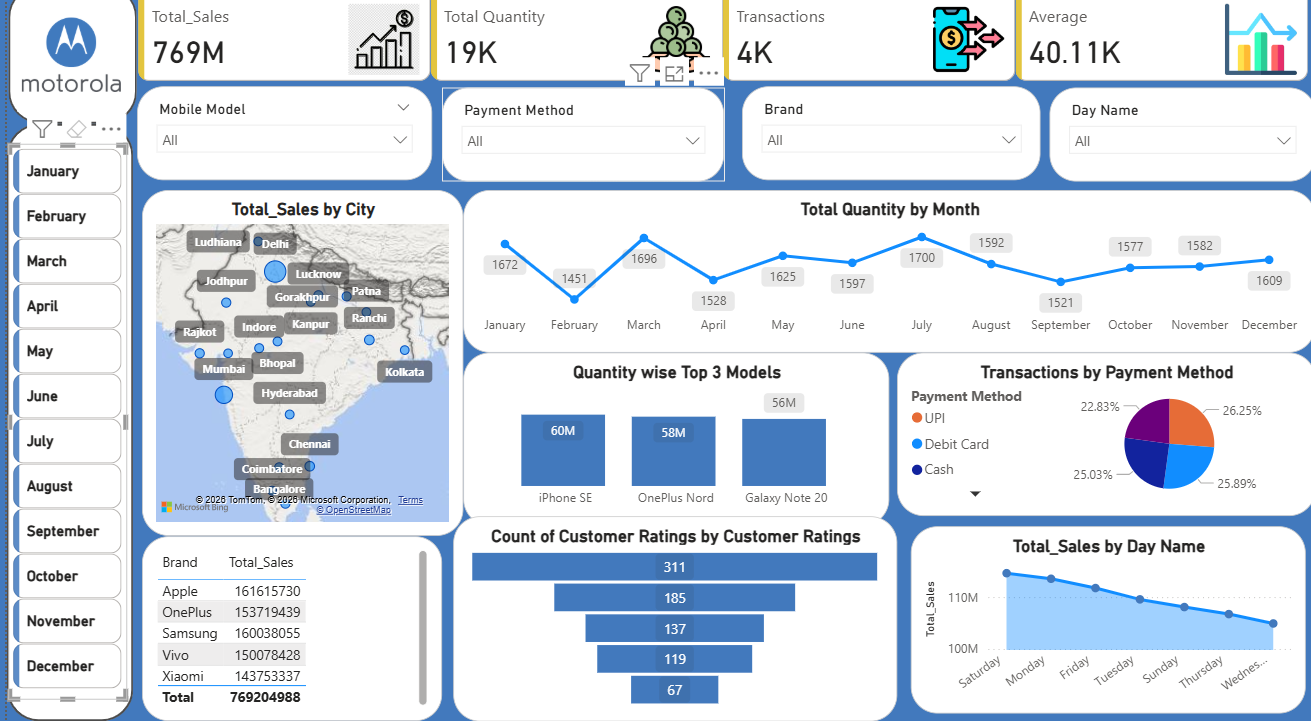

Layout of this report page (visuals, bound fields, positions):
{"tool":"powerbi","page":{"name":"Page 1","canvas":[1280,720],"ordinal":0},"visuals":[{"type":"shape","box":[1.2,0,126,135.7],"z":0},{"type":"image","box":[9.8,13.5,106.4,110.1],"z":1000},{"type":"shape","box":[0,135.7,123.5,584.5],"z":2000},{"type":"advancedSlicerVisual","fields":{"Values":["Sales_Data.Date.Variation.Date Hierarchy.Month"]},"box":[1.2,155.3,116.2,544.2],"z":3000},{"type":"cardVisual","fields":{"Data":["Sales_Data.Sales_Data","Sales_Data.Total Quantity","Sales_Data.Transactions","Sales_Data.Average"]},"box":[123.5,0,1156.8,99],"z":4000},{"type":"map","fields":{"Category":["Sales_Data.City"],"Size":["Sales_Data.Total_Sales"]},"box":[132.1,200.5,314.3,338.7],"z":5000},{"type":"lineChart","fields":{"Y":["Sales_Data.Total Quantity"],"Category":["Sales_Data.Date.Variation.Date Hierarchy.Month","Sales_Data.Date.Variation.Date Hierarchy.Day"]},"box":[446.3,200.5,834,159],"z":6000},{"type":"clusteredColumnChart","title":"Quantity wise Top 3 Models","fields":{"Category":["Sales_Data.Mobile Model"],"Y":["Sales_Data.Total_Sales"]},"box":[446.3,359.5,417,170],"z":7000},{"type":"pieChart","fields":{"Category":["Sales_Data.Payment Method"],"Y":["Sales_Data.Transactions"]},"box":[870.7,359.5,409.6,160.2],"z":8000},{"type":"funnel","fields":{"Category":["Sales_Data.Customer Ratings"],"Y":["CountNonNull(Sales_Data.Customer Ratings)"]},"box":[436.6,519.7,434.1,200.5],"z":9000},{"type":"tableEx","fields":{"Values":["Sales_Data.Brand","Sales_Data.Total_Sales"]},"box":[132.1,539.3,293.5,181],"z":10000},{"type":"areaChart","fields":{"Category":["Sales_Data.Day Name"],"Y":["Sales_Data.Total_Sales"]},"box":[884.1,529.5,386.4,183.4],"z":11000},{"type":"slicer","fields":{"Values":["Sales_Data.Mobile Model"]},"box":[127.2,99,288.6,91.7],"z":12000},{"type":"slicer","fields":{"Values":["Sales_Data.Brand"]},"box":[719,99,292.3,91.7],"z":13000},{"type":"slicer","fields":{"Values":["Sales_Data.Payment Method"]},"box":[425.5,100.3,276.4,91.7],"z":14000},{"type":"slicer","fields":{"Values":["Sales_Data.Day Name"]},"box":[1019.8,100.3,260.5,91.7],"z":15000}]}

Visuals, with their boxes in screenshot pixels (x1, y1, x2, y2), scaled from the page's 1280x720 canvas onto the 1311x721 screenshot:
shape: {"x1": 1, "y1": 0, "x2": 130, "y2": 136}
image: {"x1": 10, "y1": 14, "x2": 119, "y2": 124}
shape: {"x1": 0, "y1": 136, "x2": 126, "y2": 720}
advancedSlicerVisual - Sales_Data.Date.Variation.Date Hierarchy.Month: {"x1": 1, "y1": 156, "x2": 120, "y2": 700}
cardVisual - Sales_Data.Sales_Data x Sales_Data.Total Quantity: {"x1": 126, "y1": 0, "x2": 1310, "y2": 99}
map - Sales_Data.City x Sales_Data.Total_Sales: {"x1": 135, "y1": 201, "x2": 457, "y2": 540}
lineChart - Sales_Data.Total Quantity x Sales_Data.Date.Variation.Date Hierarchy.Month: {"x1": 457, "y1": 201, "x2": 1310, "y2": 360}
"Quantity wise Top 3 Models" clusteredColumnChart: {"x1": 457, "y1": 360, "x2": 884, "y2": 530}
pieChart - Sales_Data.Payment Method x Sales_Data.Transactions: {"x1": 892, "y1": 360, "x2": 1310, "y2": 520}
funnel - Sales_Data.Customer Ratings x CountNonNull(Sales_Data.Customer Ratings): {"x1": 447, "y1": 520, "x2": 892, "y2": 720}
tableEx - Sales_Data.Brand x Sales_Data.Total_Sales: {"x1": 135, "y1": 540, "x2": 436, "y2": 720}
areaChart - Sales_Data.Day Name x Sales_Data.Total_Sales: {"x1": 906, "y1": 530, "x2": 1301, "y2": 714}
slicer - Sales_Data.Mobile Model: {"x1": 130, "y1": 99, "x2": 426, "y2": 191}
slicer - Sales_Data.Brand: {"x1": 736, "y1": 99, "x2": 1036, "y2": 191}
slicer - Sales_Data.Payment Method: {"x1": 436, "y1": 100, "x2": 719, "y2": 192}
slicer - Sales_Data.Day Name: {"x1": 1044, "y1": 100, "x2": 1310, "y2": 192}
